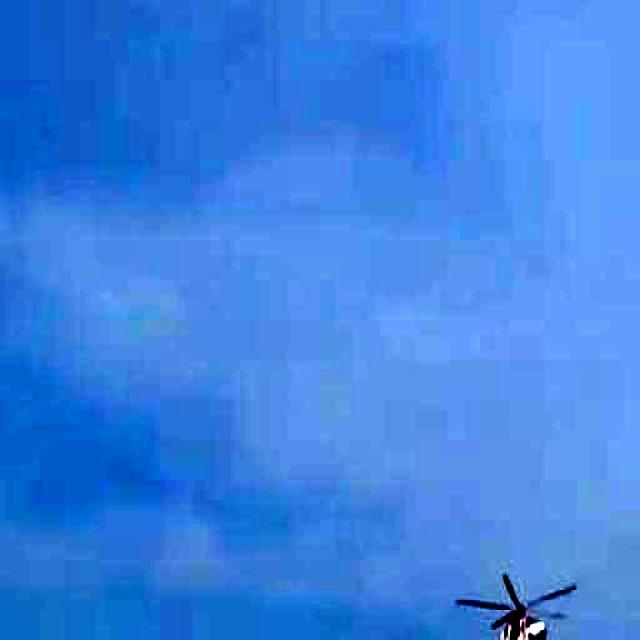drone: (451, 566, 578, 640)
